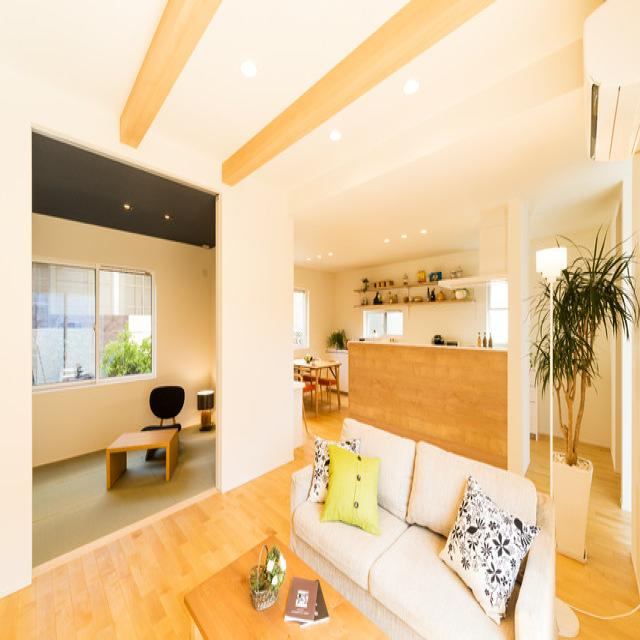natural desk: (179, 532, 394, 640), (104, 428, 179, 484), (291, 356, 340, 411)
natural sofa: (290, 415, 554, 640)
